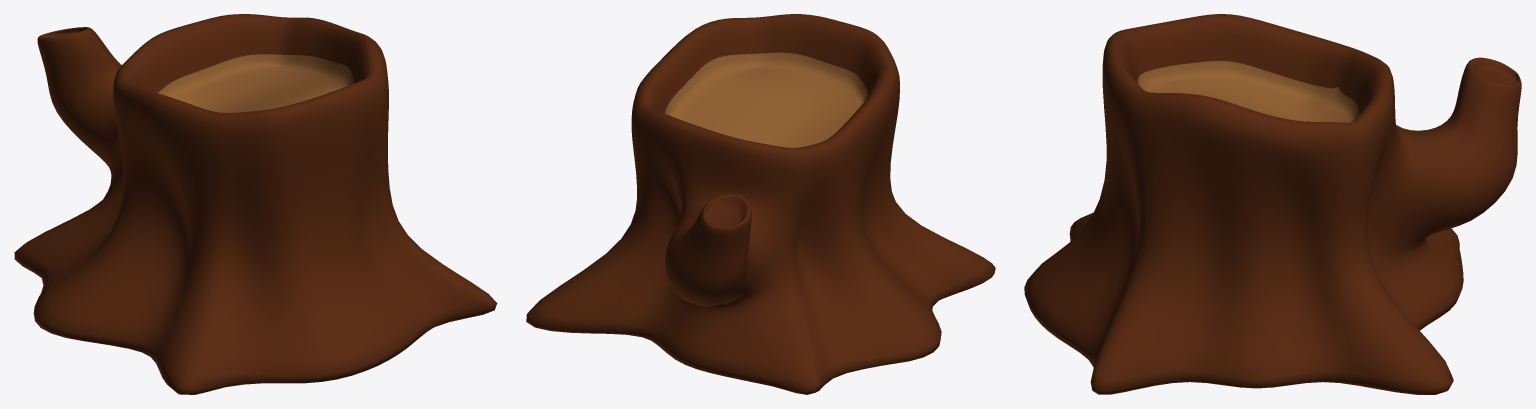
The model's file is tronco1.fbx.
3 renders of one model, left to right at view 1: azimuth 30°, elevation 25°; view 2: azimuth 150°, elevation 25°; view 3: azimuth 270°, elevation 25°, orthographic. The views are drawn at different scales.
Visible parts, largest first — view 1: tronco 1; view 2: tronco 1; view 3: tronco 1.
Part boxes in pixels (x1,y1,x2,y2): tronco 1: (14, 14, 497, 394); tronco 1: (526, 14, 995, 394); tronco 1: (1024, 14, 1521, 394).
Bounding box in the file's own units: 152 × 102 × 173.
